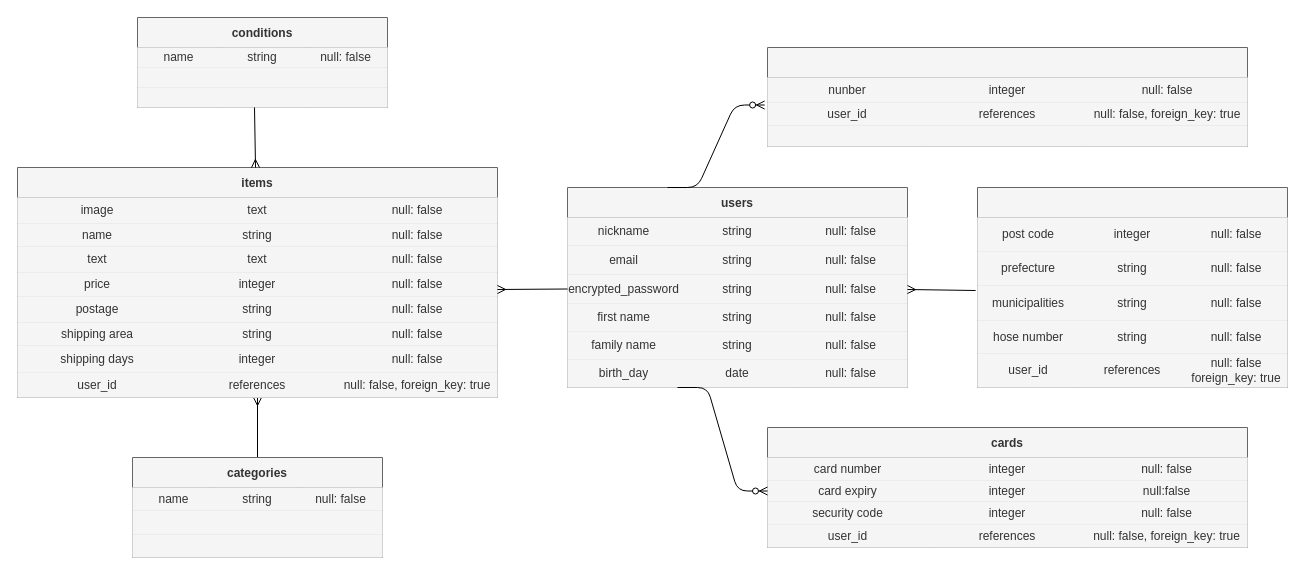
The diagram is 1305 pixels wide and 575 high, and some of its shapes have lost their labels. The box of each missing label's shape, as (x1, y1, x2, y2) in pixels:
addresses: (976, 186, 1288, 388)
phone numbers: (766, 46, 1248, 146)
